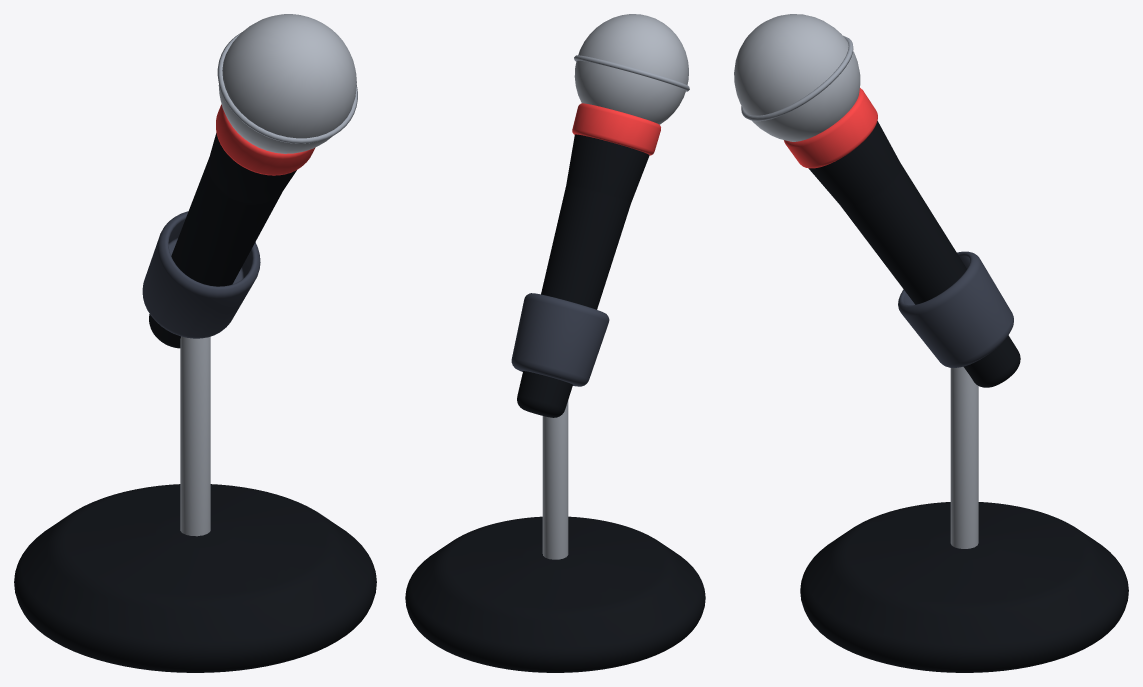
The model's file is microphone.glb.
3 renders of one model, left to right at view 1: azimuth 30°, elevation 25°; view 2: azimuth 150°, elevation 25°; view 3: azimuth 270°, elevation 25°, orthographic. The views are drawn at different scales.
Visible parts, largest first — view 1: mic_base, mic_grille, mic_handle, mic_holder, mic_stem, mic_ring, mic_grille_band; view 2: mic_base, mic_handle, mic_grille, mic_holder, mic_stem, mic_ring, mic_grille_band; view 3: mic_base, mic_handle, mic_grille, mic_holder, mic_stem, mic_ring, mic_grille_band.
Part boxes in pixels (<box>): mic_base: <box>14,484,376,672</box>; mic_grille: <box>218,14,356,153</box>; mic_handle: <box>149,133,296,348</box>; mic_holder: <box>142,211,260,338</box>; mic_stem: <box>180,336,210,536</box>; mic_ring: <box>216,104,315,175</box>; mic_grille_band: <box>217,32,357,143</box>; mic_base: <box>405,516,705,672</box>; mic_handle: <box>517,134,649,417</box>; mic_grille: <box>574,14,688,124</box>; mic_holder: <box>511,293,609,386</box>; mic_stem: <box>542,400,568,559</box>; mic_ring: <box>572,103,660,155</box>; mic_grille_band: <box>574,55,689,91</box>; mic_base: <box>800,502,1128,672</box>; mic_handle: <box>808,121,1020,387</box>; mic_grille: <box>734,14,860,141</box>; mic_holder: <box>898,251,1013,367</box>; mic_stem: <box>950,367,978,548</box>; mic_ring: <box>784,88,877,168</box>; mic_grille_band: <box>741,35,853,121</box>.
Size of the model in its own units: 0.1291 by 0.2555 by 0.1551.
